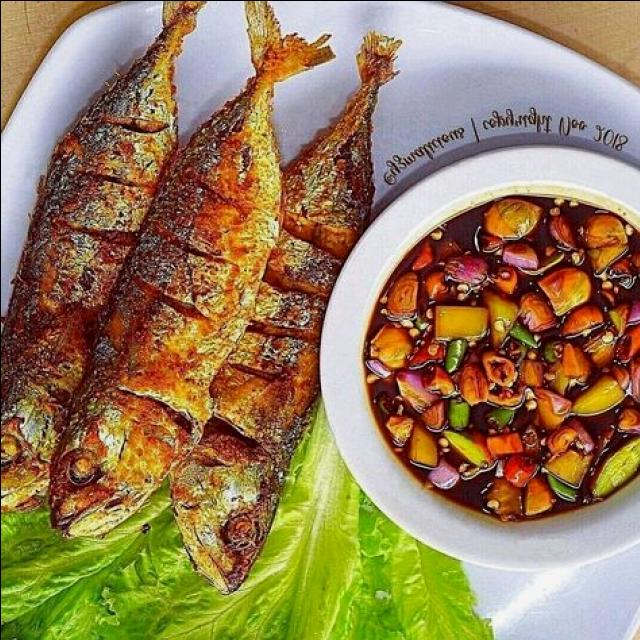ikan goreng: (47, 0, 320, 533), (166, 32, 396, 593), (0, 0, 198, 516)
